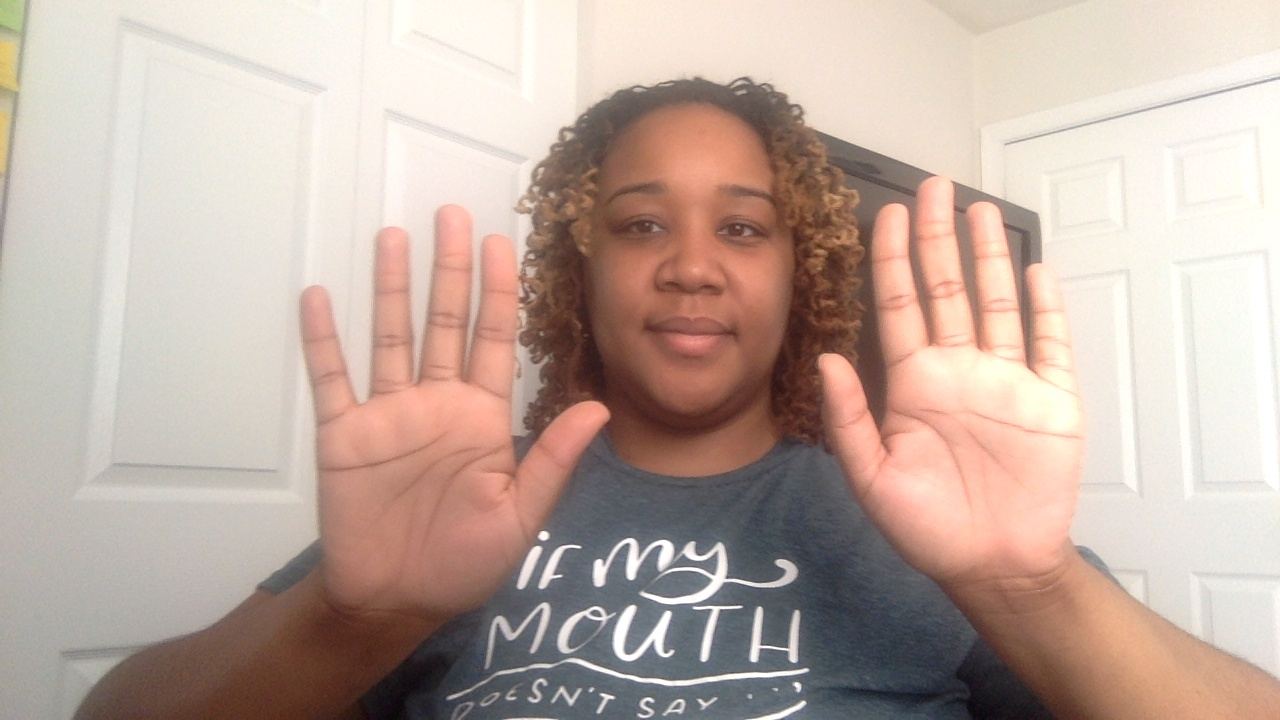great: (287, 68, 1110, 650)
